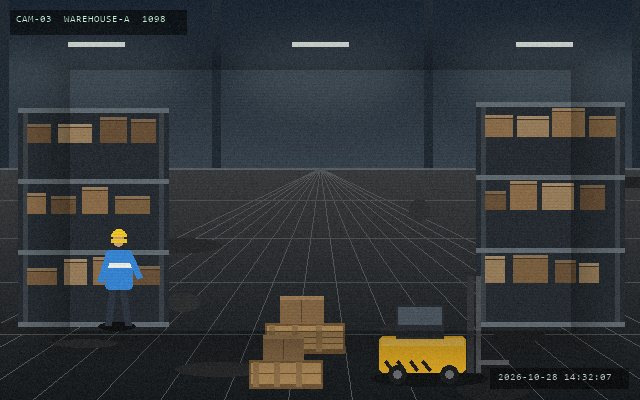forklift: (375, 274, 510, 386)
pallet: (263, 321, 346, 355), (247, 358, 324, 390)
person: (97, 227, 141, 329)
shelf: (476, 102, 624, 322), (18, 108, 168, 322)
